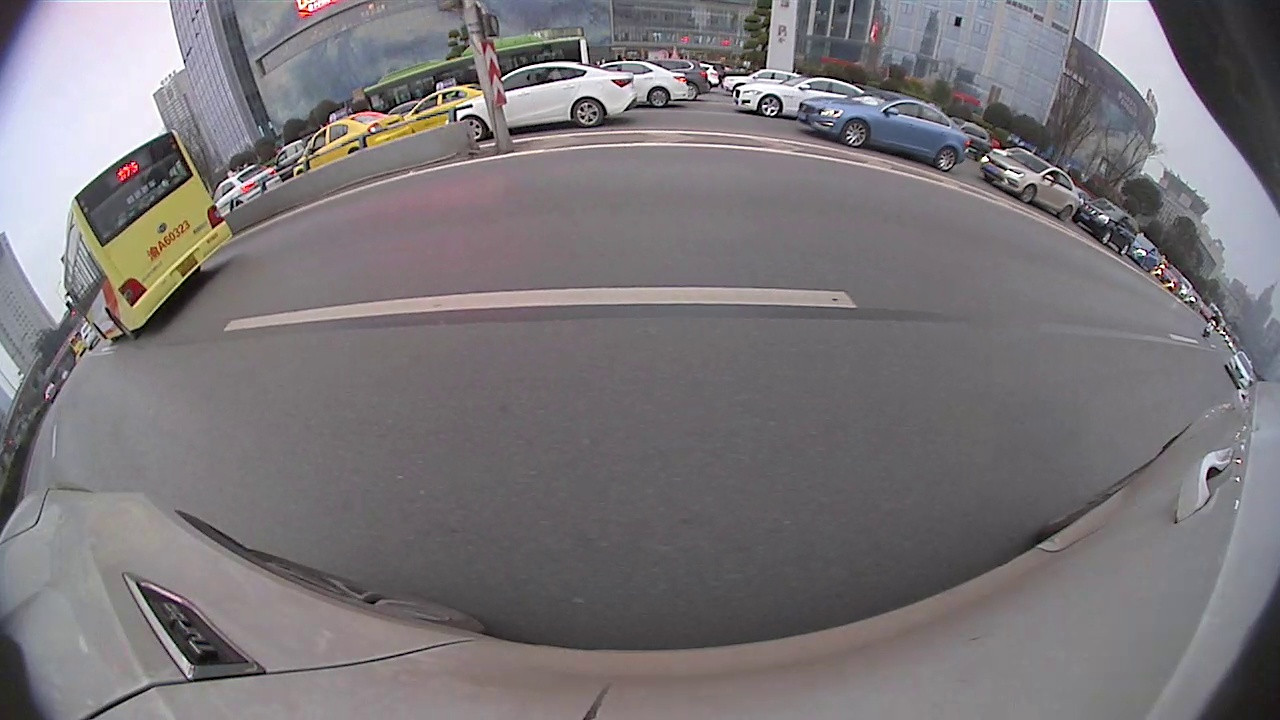bus: (58, 126, 233, 343)
car: (453, 61, 637, 142), (797, 92, 970, 173), (289, 107, 408, 181), (979, 148, 1078, 223), (733, 73, 868, 126), (397, 77, 486, 139), (590, 58, 691, 111), (210, 163, 282, 221), (1073, 196, 1134, 258), (646, 56, 715, 103), (264, 134, 323, 184), (948, 118, 995, 160)
front: (838, 113, 869, 151), (458, 114, 492, 142), (754, 93, 785, 122), (1016, 183, 1036, 206)
rear: (103, 304, 139, 345), (568, 98, 606, 128), (645, 84, 671, 112), (934, 147, 958, 173), (1055, 204, 1075, 222)
